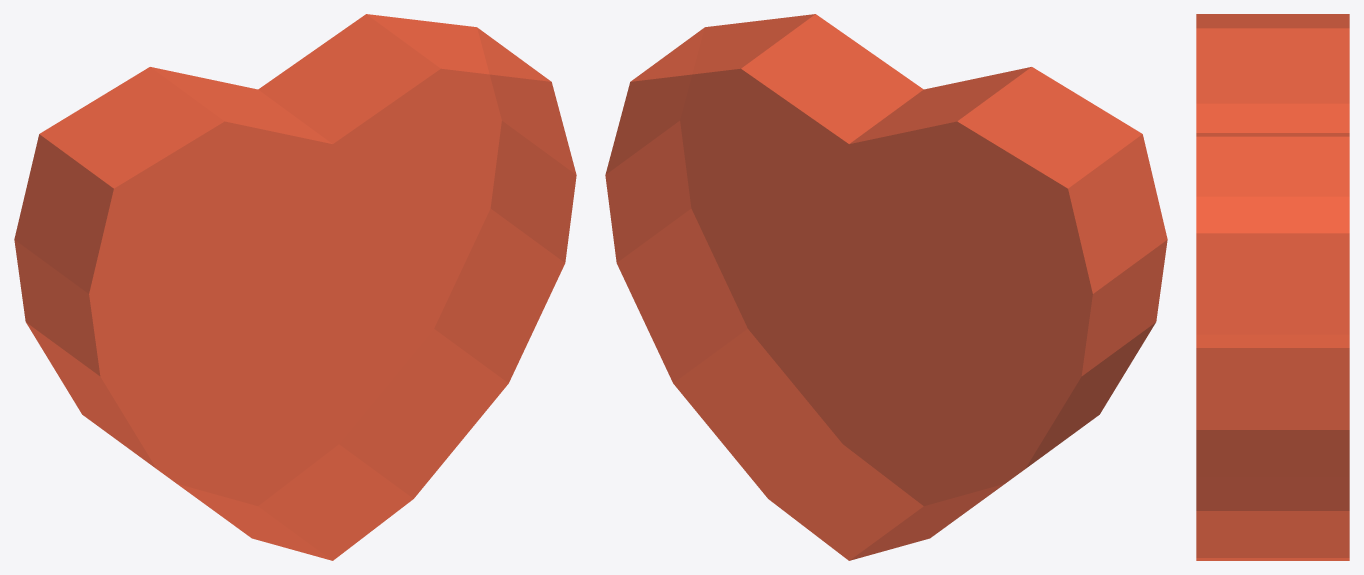
The model's file is Heart.obj.
3 renders of one model, left to right at view 1: azimuth 30°, elevation 25°; view 2: azimuth 150°, elevation 25°; view 3: azimuth 270°, elevation 25°, orthographic. The views are drawn at different scales.
Parts seen in each view (by area): view 1: Heart; view 2: Heart; view 3: Heart.
Part boxes in pixels (bbox=[...]): Heart: bbox=[14, 14, 576, 560]; Heart: bbox=[605, 14, 1167, 560]; Heart: bbox=[1196, 14, 1349, 560].
Bounding box in the file's own units: 3.07 × 2.8 × 0.8149.
Materials: 1 (1 with a texture image).
